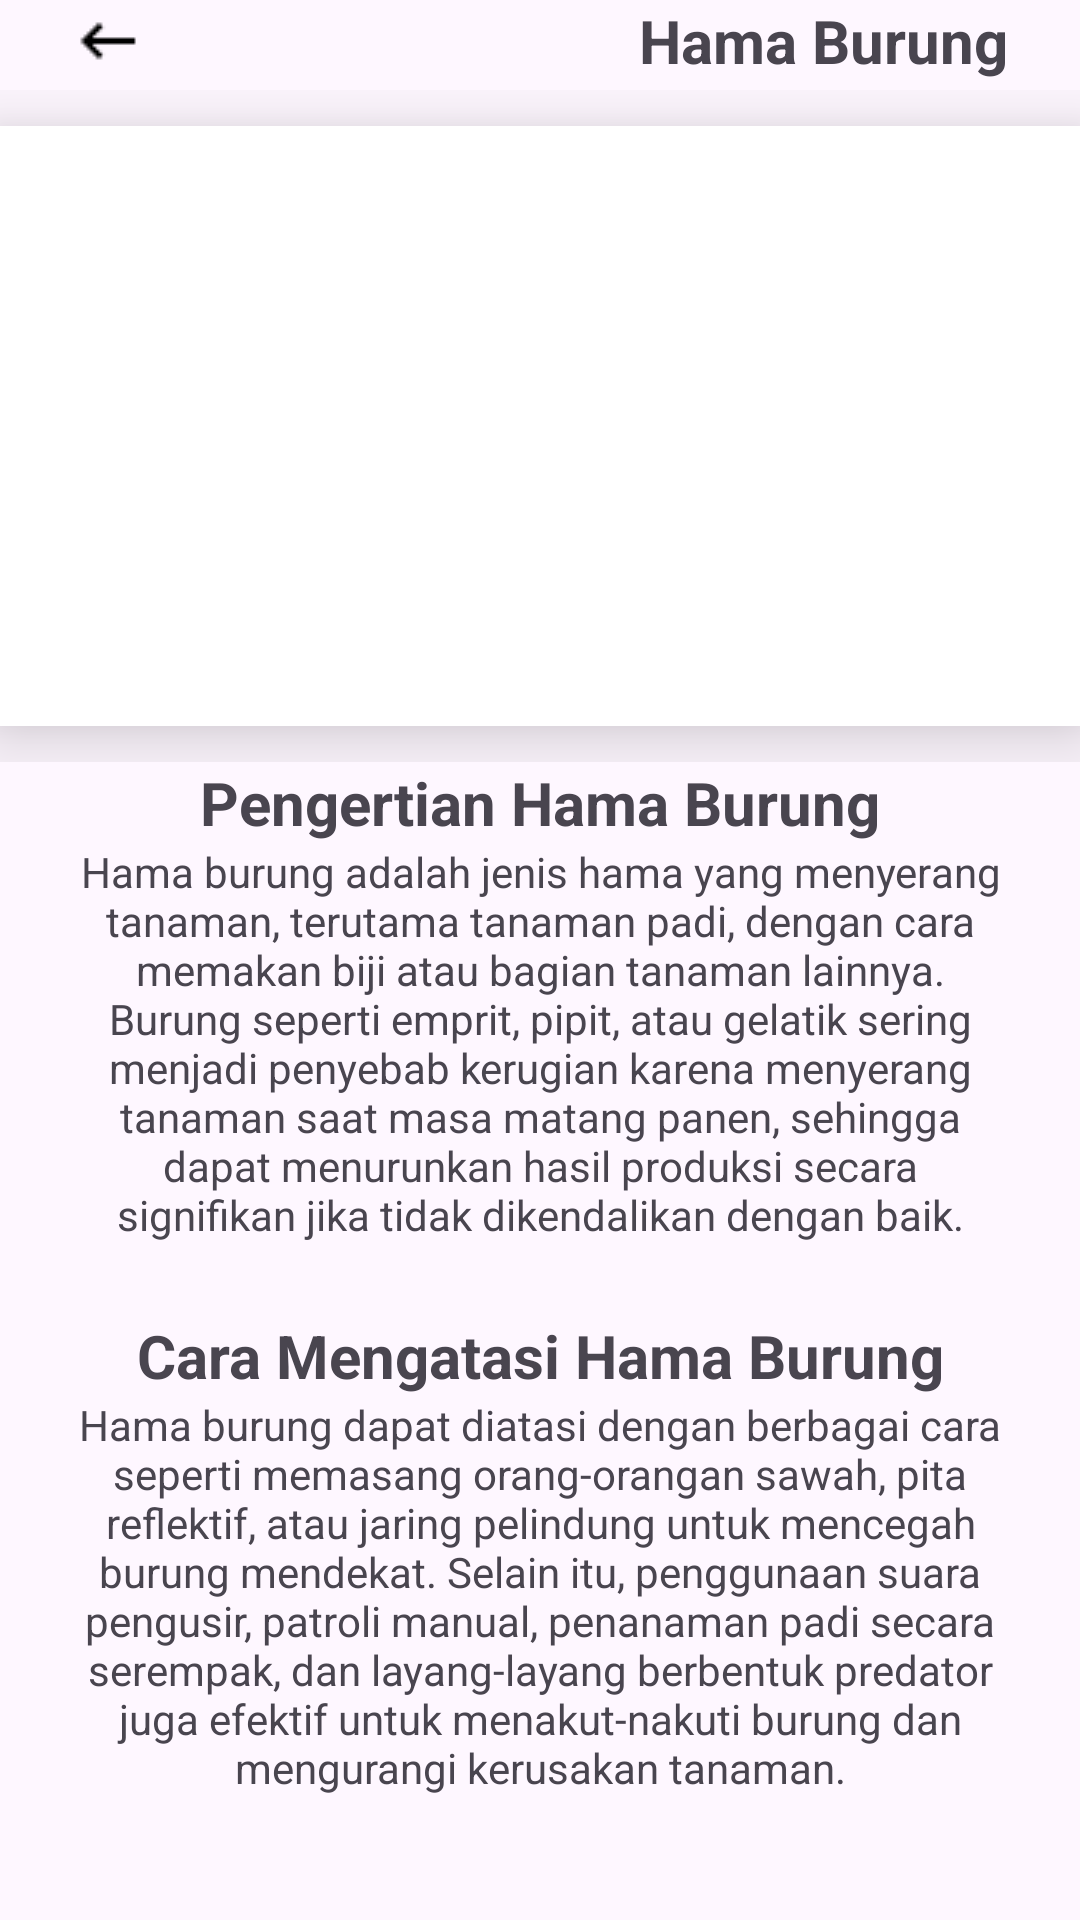

Icon click points for this 1080 × 1920 phone screenshot, format point (x, y):
keyboard backspace: point (108, 41)
